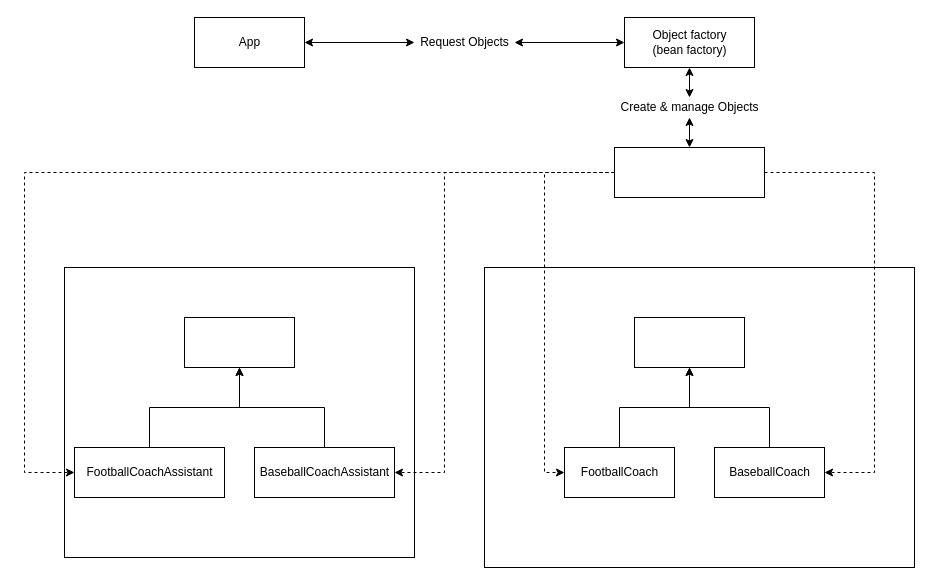
Some shapes in this 932 by 585 pixel diagram are drawn without their labels. The shapes that lost their labels are listed below. From the top down, each one's centre as x and y in pixels, then its label:
the point at 689,172: Configuration file (application context.xml)
the point at 239,342: «interface» CoachAssistant
the point at 689,342: «interface» Coach
